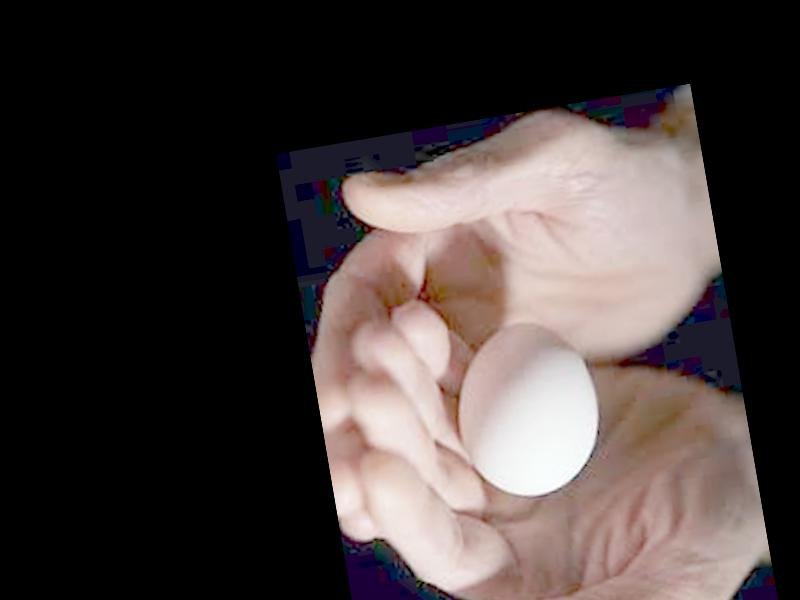Eggs: (445, 314, 611, 506)
